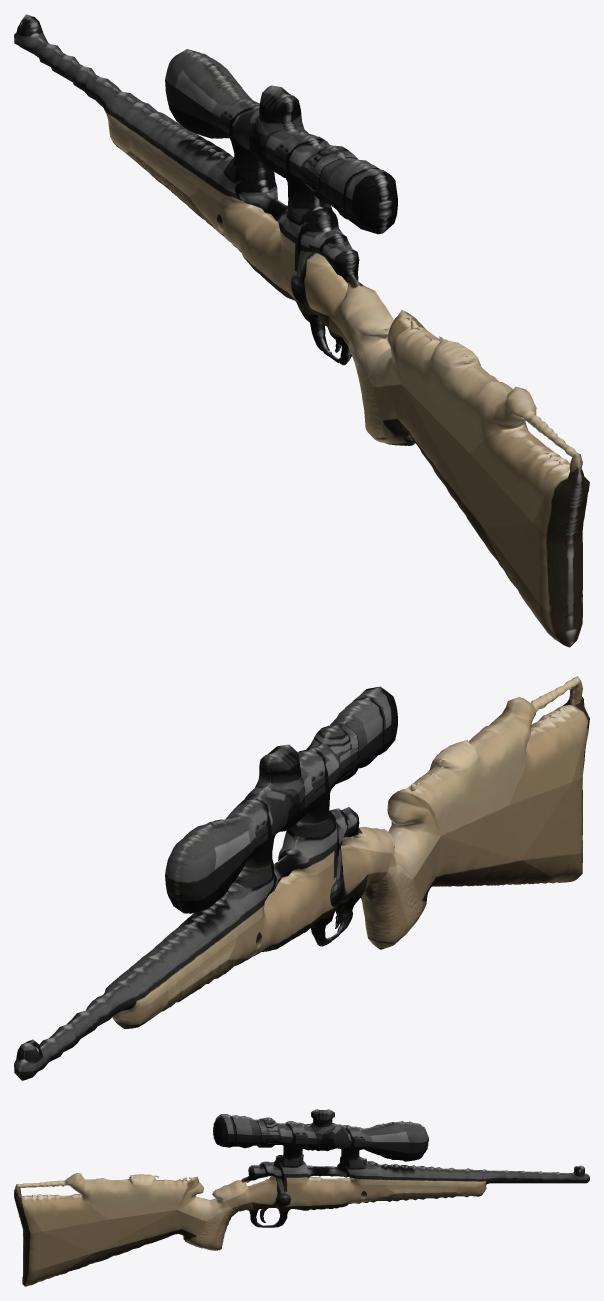
File: sniper-arme.glb
3 renders of one model, top to bottom at view 1: azimuth 30°, elevation 25°; view 2: azimuth 150°, elevation 25°; view 3: azimuth 270°, elevation 25°, orthographic. The views are drawn at different scales.
Parts seen in each view (by area): view 1: sniper-arme; view 2: sniper-arme; view 3: sniper-arme.
Part boxes in pixels (x1=…): sniper-arme: x1=14, y1=14, x2=589, y2=647; sniper-arme: x1=14, y1=676, x2=589, y2=1080; sniper-arme: x1=14, y1=1109, x2=589, y2=1286.
Size of the model in its own units: 0.044 by 0.3703 by 1.09.
Materials: 1 (1 with a texture image).
